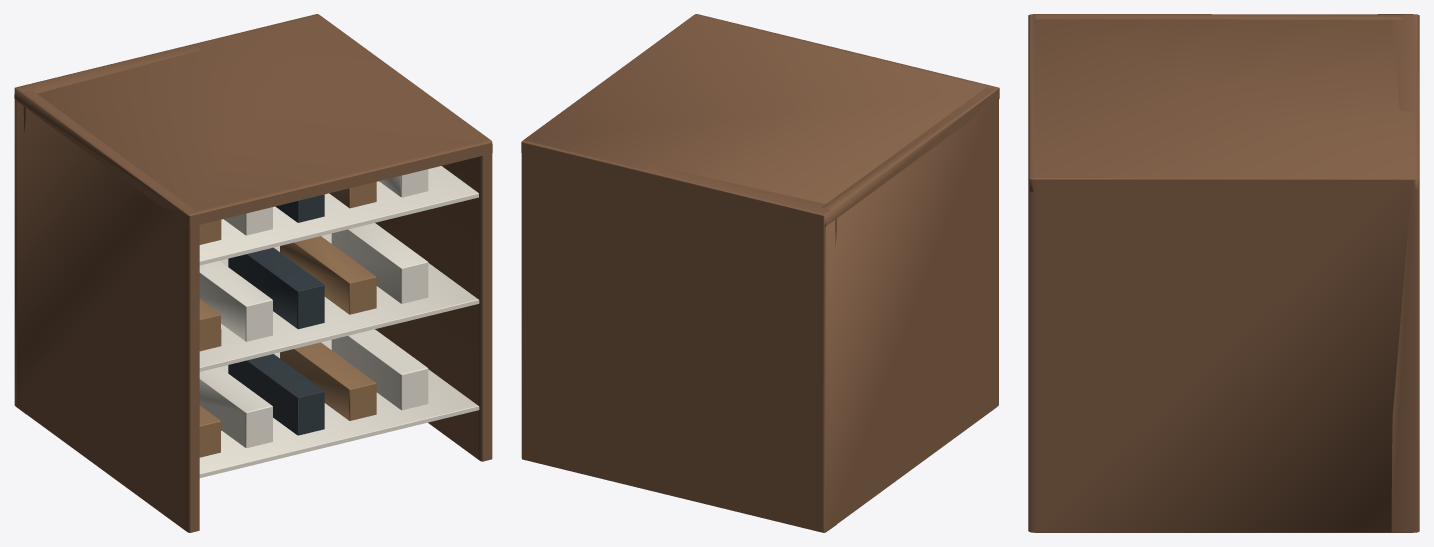
Rendered from shelf-17-0.lod.glb.
3 renders of one model, left to right at view 1: azimuth 30°, elevation 25°; view 2: azimuth 150°, elevation 25°; view 3: azimuth 270°, elevation 25°, orthographic. The views are drawn at different scales.
Visible parts, largest first — view 1: upholstery (×2), book (×2); view 2: upholstery; view 3: upholstery.
Part boxes in pixels (x1,y1,x2,y2): upholstery (×2): (14, 14, 492, 532); book (×2): (199, 182, 376, 457); upholstery: (521, 14, 999, 532); upholstery: (1028, 14, 1419, 532).
Size of the model in its own units: 1 by 1 by 1.
